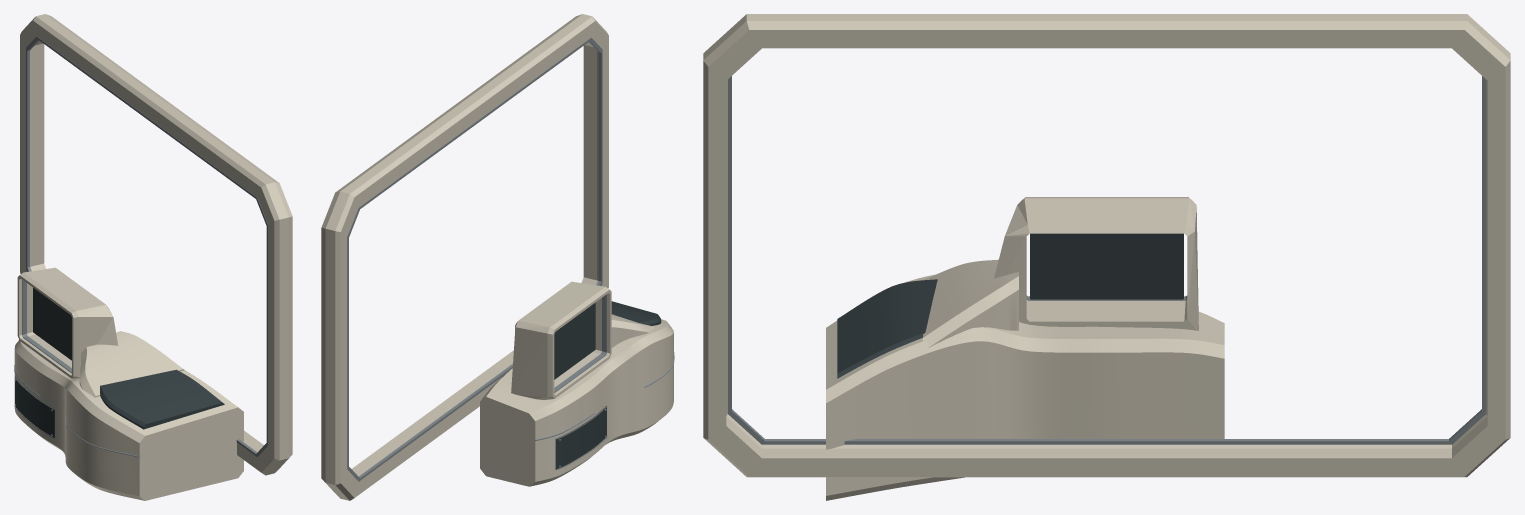
File: forward-bay-proof.glb
3 renders of one model, left to right at view 1: azimuth 30°, elevation 25°; view 2: azimuth 150°, elevation 25°; view 3: azimuth 270°, elevation 25°, orthographic. The views are drawn at different scales.
Parts seen in each view (by area): view 1: panorama.structural-surround, console.continuous-dashboard-shell, instrument.central-sculpted-case, console.starboard-inset-worktop, console.rising-central-shoulder, panorama.metal-reveal, instrument.central-substrate, construction.front-access-cover, instrument.recessed-liner; view 2: panorama.structural-surround, console.continuous-dashboard-shell, instrument.central-sculpted-case, panorama.metal-reveal, instrument.central-substrate, construction.front-access-cover, console.rising-central-shoulder, console.starboard-inset-worktop, instrument.recessed-liner; view 3: panorama.structural-surround, console.continuous-dashboard-shell, instrument.central-sculpted-case, instrument.central-substrate, panorama.metal-reveal, console.starboard-inset-worktop, console.rising-central-shoulder.
Part boxes in pixels (left/top/right/bottom): panorama.structural-surround: left=20, top=14, right=292, bottom=475; console.continuous-dashboard-shell: left=14, top=340, right=243, bottom=500; instrument.central-sculpted-case: left=17, top=267, right=118, bottom=378; console.starboard-inset-worktop: left=100, top=369, right=224, bottom=429; console.rising-central-shoulder: left=79, top=331, right=184, bottom=397; panorama.metal-reveal: left=26, top=36, right=267, bottom=457; instrument.central-substrate: left=33, top=287, right=71, bottom=360; construction.front-access-cover: left=15, top=376, right=54, bottom=438; instrument.recessed-liner: left=22, top=279, right=71, bottom=373; panorama.structural-surround: left=321, top=14, right=608, bottom=500; console.continuous-dashboard-shell: left=480, top=319, right=673, bottom=486; instrument.central-sculpted-case: left=511, top=281, right=611, bottom=399; panorama.metal-reveal: left=347, top=37, right=602, bottom=481; instrument.central-substrate: left=554, top=302, right=595, bottom=379; construction.front-access-cover: left=555, top=406, right=606, bottom=469; console.rising-central-shoulder: left=611, top=314, right=653, bottom=347; console.starboard-inset-worktop: left=611, top=301, right=661, bottom=325; instrument.recessed-liner: left=554, top=294, right=606, bottom=392; panorama.structural-surround: left=703, top=14, right=1510, bottom=477; console.continuous-dashboard-shell: left=826, top=274, right=1224, bottom=500; instrument.central-sculpted-case: left=994, top=197, right=1198, bottom=330; instrument.central-substrate: left=1030, top=233, right=1183, bottom=299; panorama.metal-reveal: left=728, top=76, right=1485, bottom=444; console.starboard-inset-worktop: left=837, top=279, right=937, bottom=378; console.rising-central-shoulder: left=923, top=259, right=1018, bottom=348.
Bounding box in the file's own units: 1 × 2.11 × 3.16.
